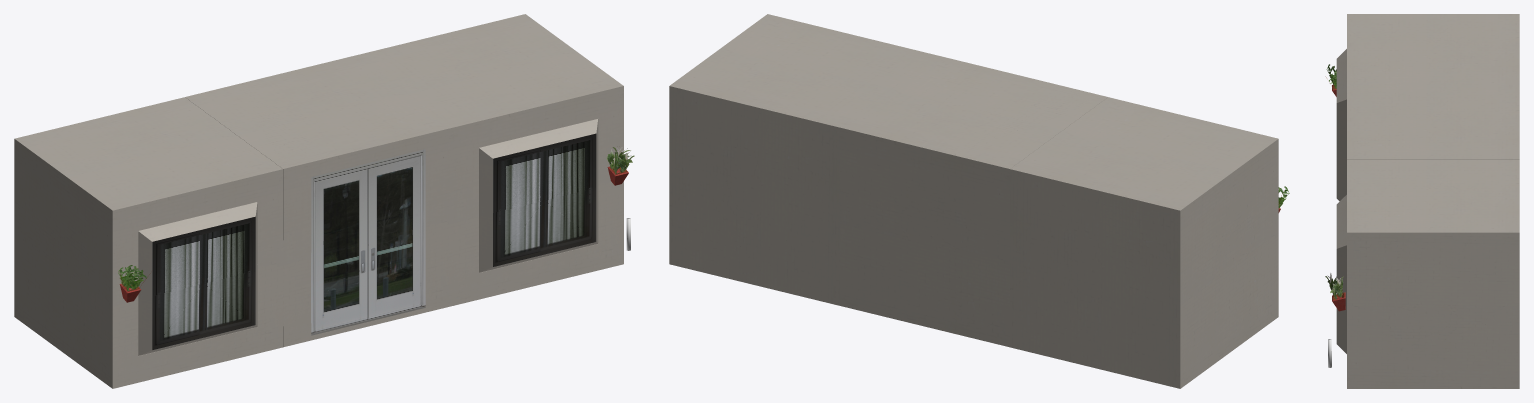
File: whiteBrick_Down3x_1.fbx
3 views of the same model, side by side, from view 1: azimuth 30°, elevation 25°; view 2: azimuth 150°, elevation 25°; view 3: azimuth 270°, elevation 25° (orthographic). The views are drawn at different scales.
Visible parts, largest first — view 1: Cube.008; view 2: Cube.008; view 3: Cube.008.
Part boxes in pixels (<box>): Cube.008: <box>14,14,634,388</box>; Cube.008: <box>669,14,1289,388</box>; Cube.008: <box>1325,14,1519,388</box>.
Size of the model in its own units: 608 by 200 by 227.
